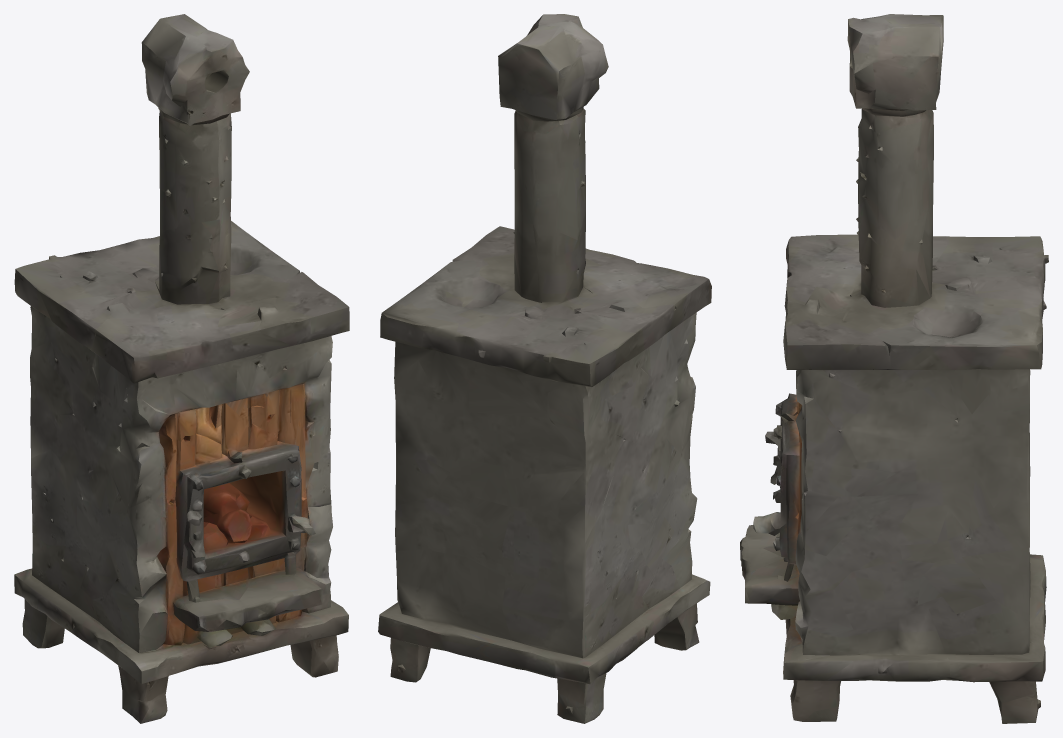
Rendered from stove_idle.glb.
The picture shows the model from 3 angles, left to right: view 1: azimuth 30°, elevation 25°; view 2: azimuth 150°, elevation 25°; view 3: azimuth 270°, elevation 25°; orthographic projection. The views are drawn at different scales.
Visible parts, largest first — view 1: tripo_node_a4c64cd2-f748-4bd2-9d64-d58edb829594; view 2: tripo_node_a4c64cd2-f748-4bd2-9d64-d58edb829594; view 3: tripo_node_a4c64cd2-f748-4bd2-9d64-d58edb829594.
Part boxes in pixels (x1,y1,x2,y2): tripo_node_a4c64cd2-f748-4bd2-9d64-d58edb829594: (14,14,349,723); tripo_node_a4c64cd2-f748-4bd2-9d64-d58edb829594: (378,14,711,723); tripo_node_a4c64cd2-f748-4bd2-9d64-d58edb829594: (740,14,1048,723).
Bounding box in the file's own units: 0.3598 × 1 × 0.4256.
1 material, 1 textured.
